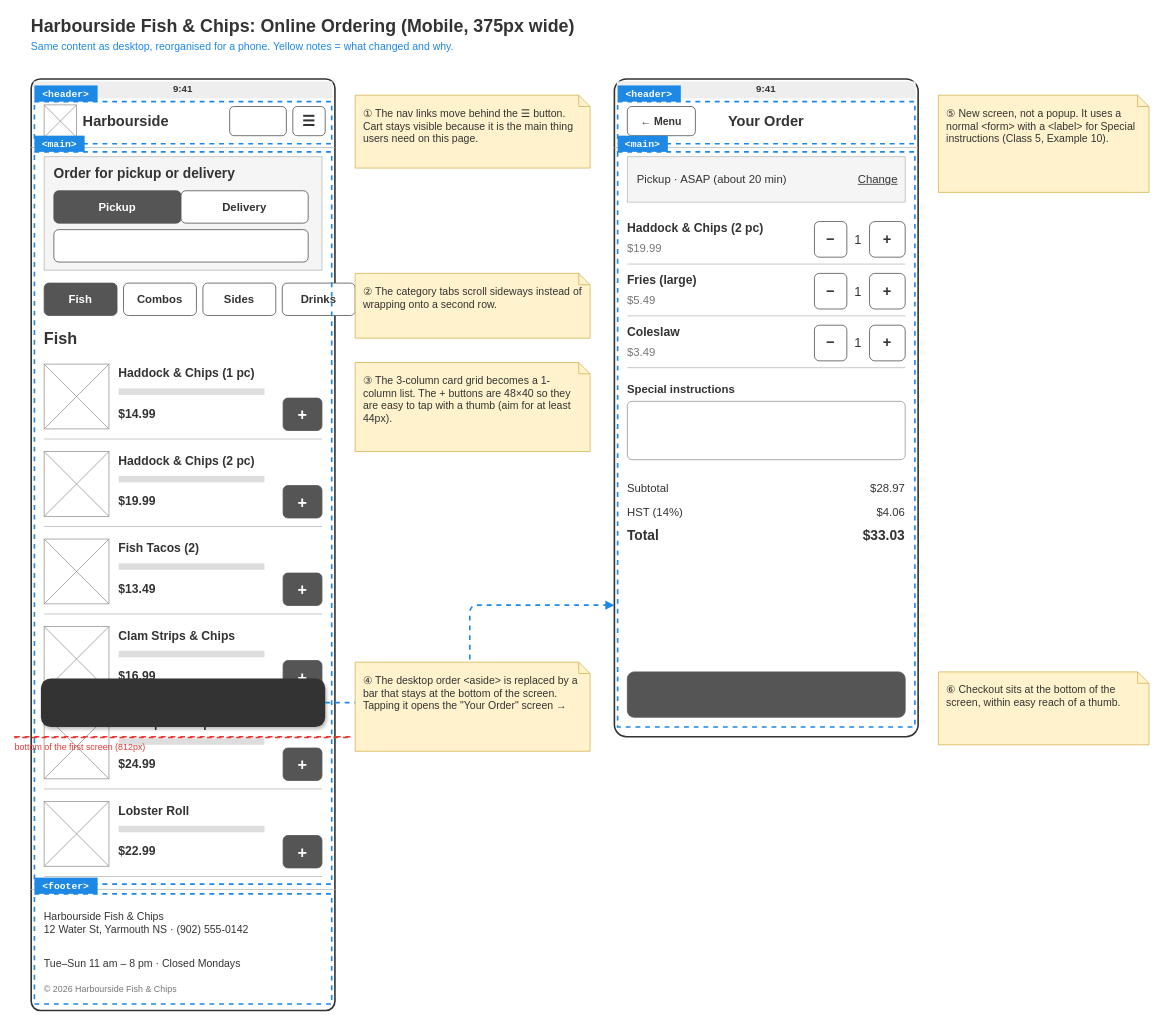
This 1163x1025 diagram has some shape labels left out. The shapes that lost their labels are listed below. From the top down, each one's centre as x and y in pixels, then its label:
[257,121]: Cart (3)
[180,245]: Pickup time: ASAP ▾
[766,430]: e.g. extra tartar sauce, no vinegar
[183,703]: View order (3) · $33.03 →
[766,694]: Checkout · $33.03
